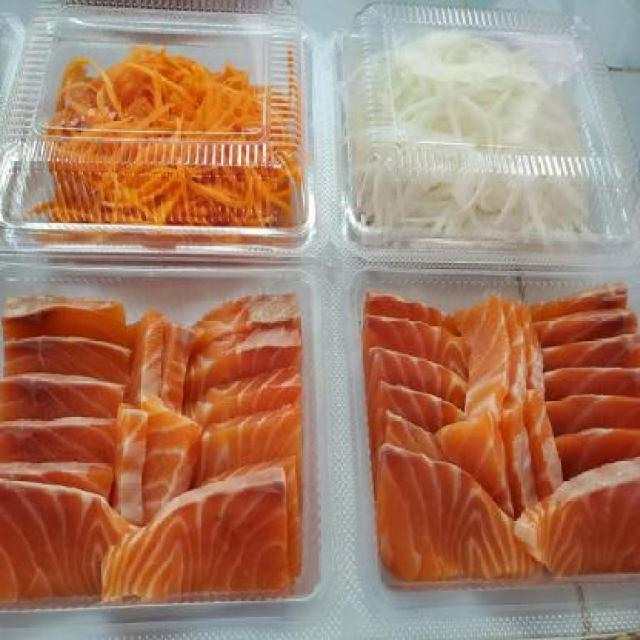salmon: (1, 260, 314, 608), (352, 277, 640, 584)
